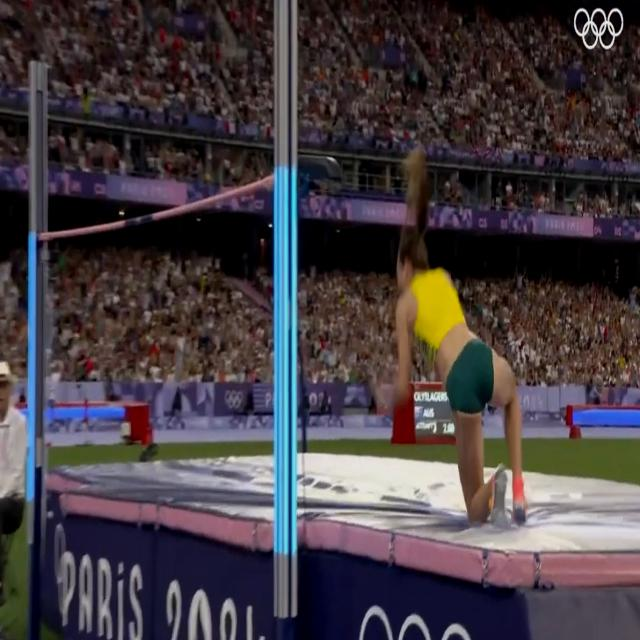land: (394, 227, 526, 514)
